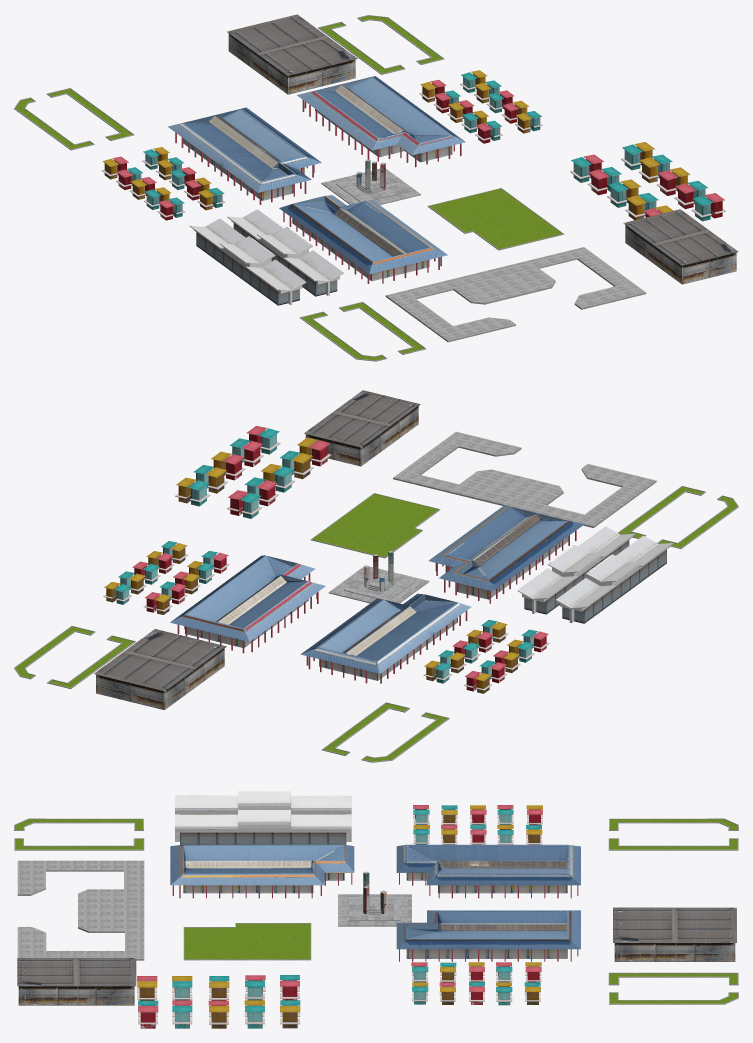
File: ChoDem.glb
3 renders of one model, top to bottom at view 1: azimuth 30°, elevation 25°; view 2: azimuth 150°, elevation 25°; view 3: azimuth 270°, elevation 25°, orthographic.
Parts seen in each view (by area): view 1: ChoDem.09, ChoDem.08, ChoDem.06, ChoDem.05, Chodem.014, ChoDem.02, Chodem.012, Chodem.015, Chodem.011, Chodem.07, Chodem.04, Chodem.010 (+3 smaller); view 2: ChoDem.05, ChoDem.08, ChoDem.09, ChoDem.06, Chodem.014, ChoDem.02, Chodem.012, Chodem.015, Chodem.011, Chodem.04, Chodem.07, Chodem.010 (+3 smaller); view 3: ChoDem.08, ChoDem.09, ChoDem.05, ChoDem.06, Chodem.014, ChoDem.02, Chodem.015, Chodem.012, Chodem.011, Chodem.07, Chodem.04, Chodem.010 (+3 smaller).
Boxes of the visible parts, x1,y1,x2,y2 form: ChoDem.09: (279,195,447,283); ChoDem.08: (189,209,343,305); ChoDem.06: (297,76,465,167); ChoDem.05: (168,107,321,204); Chodem.014: (385,247,646,342); ChoDem.02: (226,14,357,94); Chodem.012: (570,142,726,221); Chodem.015: (623,209,738,284); Chodem.011: (427,188,564,250); Chodem.07: (419,70,542,143); Chodem.04: (101,147,225,220); Chodem.010: (321,159,420,204); ChoDem.05: (300,593,471,683); ChoDem.08: (517,526,673,623); ChoDem.09: (428,505,583,603); ChoDem.06: (170,555,325,653); Chodem.014: (393,431,656,527); ChoDem.02: (94,629,226,709); Chodem.012: (175,426,331,518); Chodem.015: (304,390,420,466); Chodem.011: (310,493,440,558); Chodem.04: (423,619,549,693); Chodem.07: (103,541,229,614); Chodem.010: (328,551,429,603); ChoDem.08: (175,791,351,844); ChoDem.09: (170,844,354,898); ChoDem.05: (396,844,580,898); ChoDem.06: (396,910,580,961); Chodem.014: (17,860,144,960); ChoDem.02: (613,907,736,961); Chodem.015: (17,958,136,1005); Chodem.012: (137,975,300,1028); Chodem.011: (183,923,311,960); Chodem.07: (411,962,541,1005); Chodem.04: (413,805,542,844); Chodem.010: (338,871,411,926).
Size of the model in its own units: 91.86 by 6.99 by 131.
2 materials, 2 textured.
